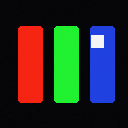1 square: (91, 35, 103, 47)
